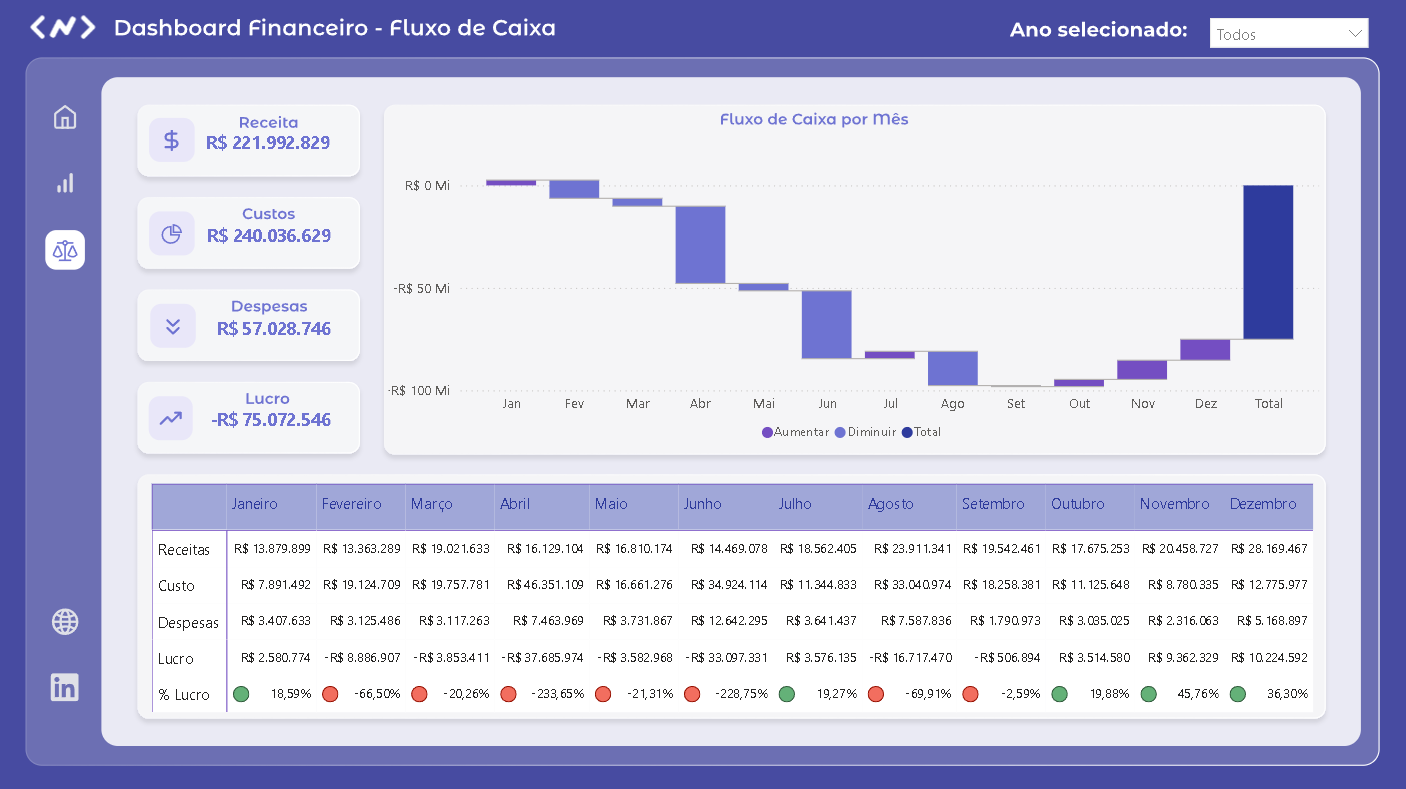

The page's visual inventory and layout, read from the dashboard file:
{"tool":"powerbi","page":{"name":"Detalhamento","canvas":[1280,720],"ordinal":2},"visuals":[{"type":"cardVisual","fields":{"Data":["_Medidas.Receitas"]},"box":[127.3,94.8,201.1,67.6],"z":0},{"type":"cardVisual","fields":{"Data":["_Medidas.Custo"]},"box":[128.2,180.9,201.1,62.3],"z":1000},{"type":"cardVisual","fields":{"Data":["_Medidas.Despesas"]},"box":[128.2,264.3,201.1,65.9],"z":2000},{"type":"cardVisual","fields":{"Data":["_Medidas.Lucro"]},"box":[128.2,349.5,201.1,61.5],"z":3000},{"type":"waterfallChart","fields":{"Category":["dCalendario.MesAbreviado"],"Y":["_Medidas.Lucro"]},"box":[350.3,117.7,856.1,293.3],"z":4000},{"type":"slicer","fields":{"Values":["dCalendario.Ano"]},"box":[1091.4,6.1,164.2,43],"z":5000},{"type":"pivotTable","fields":{"Values":["_Medidas.Receitas","_Medidas.Custo","_Medidas.Despesas","_Medidas.Lucro","_Medidas.% Lucro"],"Columns":["dCalendario.NomeMes"]},"box":[134.3,434.6,1072.1,221.3],"z":6000},{"type":"actionButton","box":[40.7,90,40,38.6],"z":7000},{"type":"actionButton","box":[40.9,149.1,40,38.2],"z":7001},{"type":"actionButton","box":[40.9,605.5,40,38.2],"z":7002}]}

Visuals, with their boxes on the page's 1280x720 design canvas (x1, y1, x2, y2). These are canvas units, not pixel positions in the 1406x789 screenshot, which may show the page scaled, cropped or inside an application window:
cardVisual - _Medidas.Receitas: box=[127, 95, 328, 162]
cardVisual - _Medidas.Custo: box=[128, 181, 329, 243]
cardVisual - _Medidas.Despesas: box=[128, 264, 329, 330]
cardVisual - _Medidas.Lucro: box=[128, 350, 329, 411]
waterfallChart - dCalendario.MesAbreviado x _Medidas.Lucro: box=[350, 118, 1206, 411]
slicer - dCalendario.Ano: box=[1091, 6, 1256, 49]
pivotTable - _Medidas.Receitas x _Medidas.Custo: box=[134, 435, 1206, 656]
actionButton: box=[41, 90, 81, 129]
actionButton: box=[41, 149, 81, 187]
actionButton: box=[41, 606, 81, 644]
